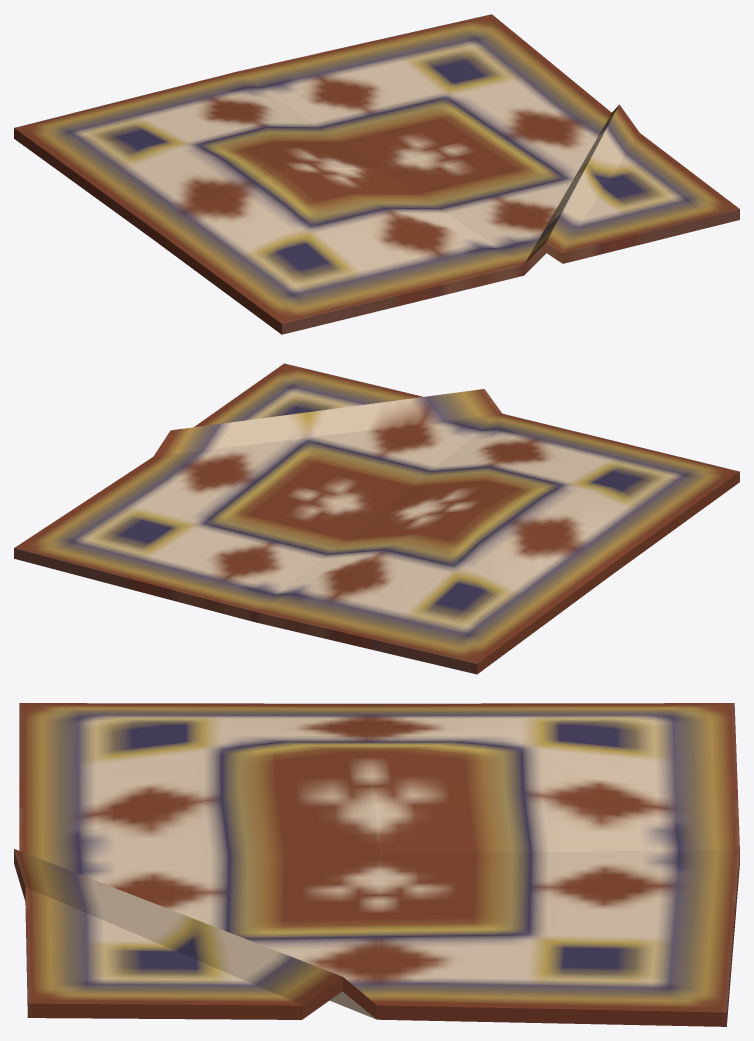
The model's file is SM_Prop_Rug_15.fbx.
3 views of the same model, one above another, from view 1: azimuth 30°, elevation 25°; view 2: azimuth 150°, elevation 25°; view 3: azimuth 270°, elevation 25° (orthographic). The views are drawn at different scales.
Visible parts, largest first — view 1: SM_Prop_Rug_15; view 2: SM_Prop_Rug_15; view 3: SM_Prop_Rug_15.
Part boxes in pixels (x1,y1,x2,y2): SM_Prop_Rug_15: (14,14,739,334); SM_Prop_Rug_15: (14,363,739,674); SM_Prop_Rug_15: (14,703,739,1026).
Size of the model in its own units: 154 by 11.99 by 153.
